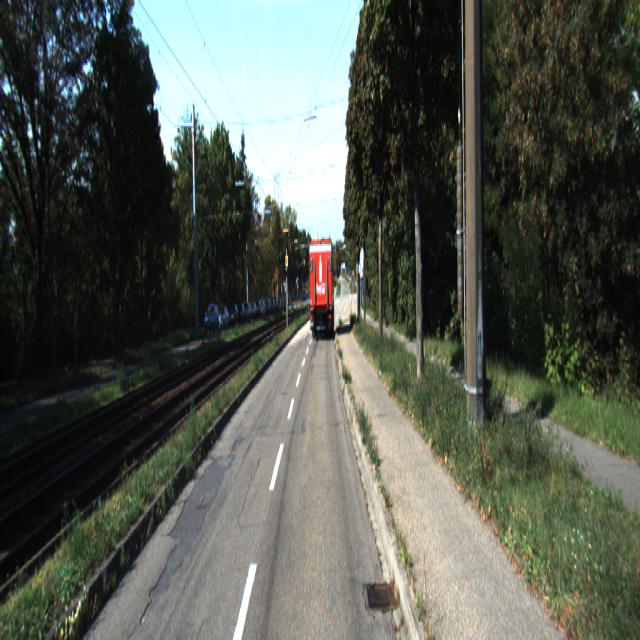Car: (308, 238, 336, 342), (203, 303, 220, 334)
